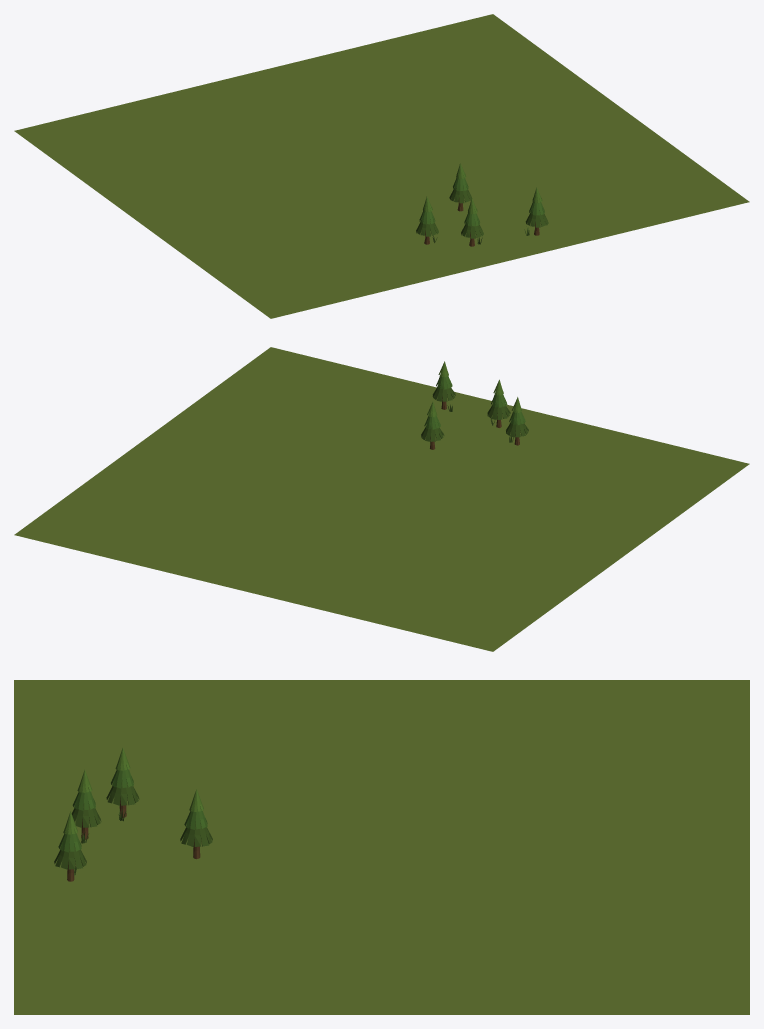
File: LawnFinish.fbx
3 views of the same model, one above another, from view 1: azimuth 30°, elevation 25°; view 2: azimuth 150°, elevation 25°; view 3: azimuth 270°, elevation 25° (orthographic). The views are drawn at different scales.
Parts seen in each view (by area): view 1: LawnFinish; view 2: LawnFinish; view 3: LawnFinish.
Boxes of the visible parts, box(x1,y1,x2,y2) form: LawnFinish: box(14, 14, 749, 318); LawnFinish: box(14, 347, 749, 651); LawnFinish: box(14, 680, 749, 1014).
Size of the model in its own units: 5182 by 513 by 4813.
